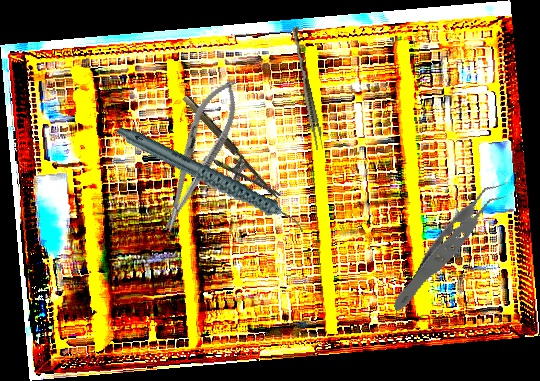Handpiece: (114, 91, 308, 269)
Needle Holder: (148, 72, 249, 239), (168, 93, 281, 214)
Tissue Forceps: (367, 179, 538, 314), (287, 26, 327, 151)
